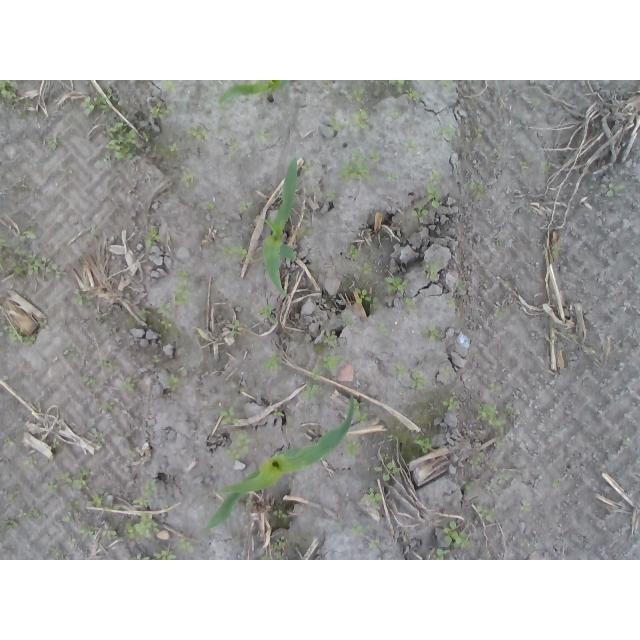Maize: (207, 392, 356, 530), (261, 156, 298, 298), (219, 81, 290, 108)
Weeds: (336, 148, 382, 184), (15, 244, 66, 273), (106, 120, 139, 163), (311, 331, 341, 370), (225, 428, 256, 465), (123, 512, 161, 540), (369, 80, 420, 100), (80, 87, 119, 113), (140, 303, 173, 330), (0, 80, 32, 106), (60, 468, 97, 490), (443, 519, 470, 549), (375, 452, 400, 481), (424, 171, 442, 210), (132, 481, 158, 507), (259, 536, 287, 560), (478, 401, 503, 427), (175, 271, 193, 306), (302, 368, 321, 401), (0, 317, 20, 346), (223, 246, 257, 263), (130, 548, 177, 560), (381, 275, 407, 294), (150, 103, 179, 120), (217, 404, 240, 424), (161, 367, 184, 386), (354, 287, 378, 305), (431, 120, 457, 136), (143, 226, 161, 249), (328, 115, 349, 134), (476, 505, 496, 524), (363, 488, 382, 508), (259, 303, 276, 325), (424, 321, 440, 344), (159, 141, 178, 160), (187, 127, 209, 143), (411, 206, 429, 224), (346, 439, 363, 458), (355, 399, 369, 422), (352, 111, 369, 129), (416, 435, 433, 453), (20, 224, 39, 240), (440, 397, 461, 411), (224, 144, 241, 161), (351, 86, 368, 103), (410, 373, 427, 390), (607, 183, 625, 199), (389, 111, 415, 122), (255, 129, 274, 144), (180, 169, 195, 187), (425, 261, 440, 279), (72, 289, 88, 305), (265, 352, 281, 368), (539, 159, 553, 177), (87, 493, 105, 507), (22, 455, 39, 469), (351, 521, 365, 538), (432, 546, 449, 560), (159, 80, 177, 93), (63, 343, 77, 359), (228, 319, 241, 336), (179, 539, 193, 554), (3, 435, 18, 449), (471, 451, 485, 466), (470, 180, 486, 193), (64, 497, 80, 510), (302, 160, 314, 177), (23, 509, 41, 520), (22, 336, 37, 349), (440, 80, 456, 92), (141, 132, 158, 143), (464, 479, 481, 490), (274, 509, 291, 520), (63, 536, 77, 549), (103, 528, 117, 541), (298, 226, 312, 239), (47, 135, 58, 151), (80, 527, 97, 537), (46, 481, 59, 494), (84, 375, 97, 388), (358, 262, 371, 275), (377, 321, 388, 336), (403, 143, 417, 154), (96, 313, 113, 322), (239, 202, 256, 211), (504, 399, 512, 417), (349, 245, 360, 258), (95, 430, 105, 444), (385, 434, 400, 443), (102, 402, 114, 413), (325, 191, 337, 202), (368, 537, 380, 548), (395, 365, 407, 376), (519, 502, 530, 513), (50, 545, 61, 556), (128, 377, 136, 392), (112, 504, 121, 517), (404, 297, 417, 306), (0, 238, 10, 249), (343, 316, 354, 326), (127, 447, 136, 459), (0, 255, 6, 273), (442, 368, 454, 377), (519, 159, 529, 169), (520, 539, 530, 549), (456, 279, 466, 289), (163, 505, 174, 514), (51, 438, 60, 449), (475, 128, 486, 137), (488, 382, 497, 393), (7, 519, 16, 530), (151, 355, 162, 364), (387, 174, 398, 183), (246, 498, 256, 507), (63, 168, 73, 177), (40, 319, 49, 328), (447, 300, 456, 309), (273, 410, 284, 417), (552, 480, 560, 489), (104, 361, 113, 369), (553, 245, 560, 255), (208, 203, 215, 210), (495, 309, 502, 316), (208, 495, 213, 504)
